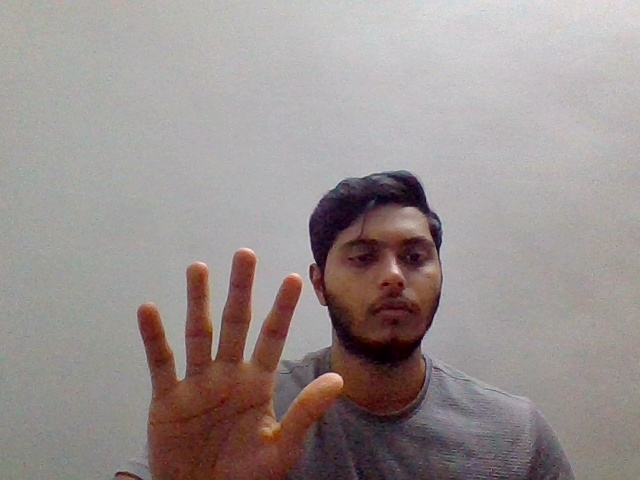Hello: (121, 237, 348, 480)
